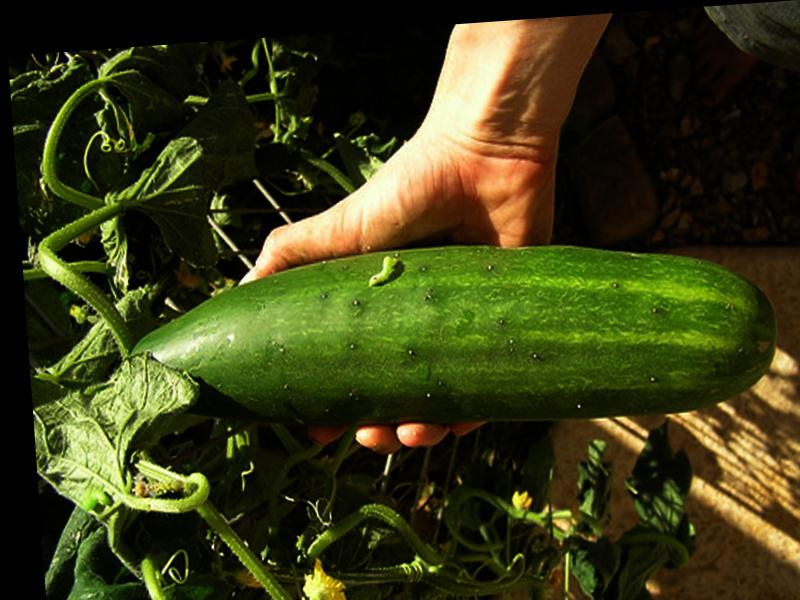Cucumber: (116, 223, 782, 453)
